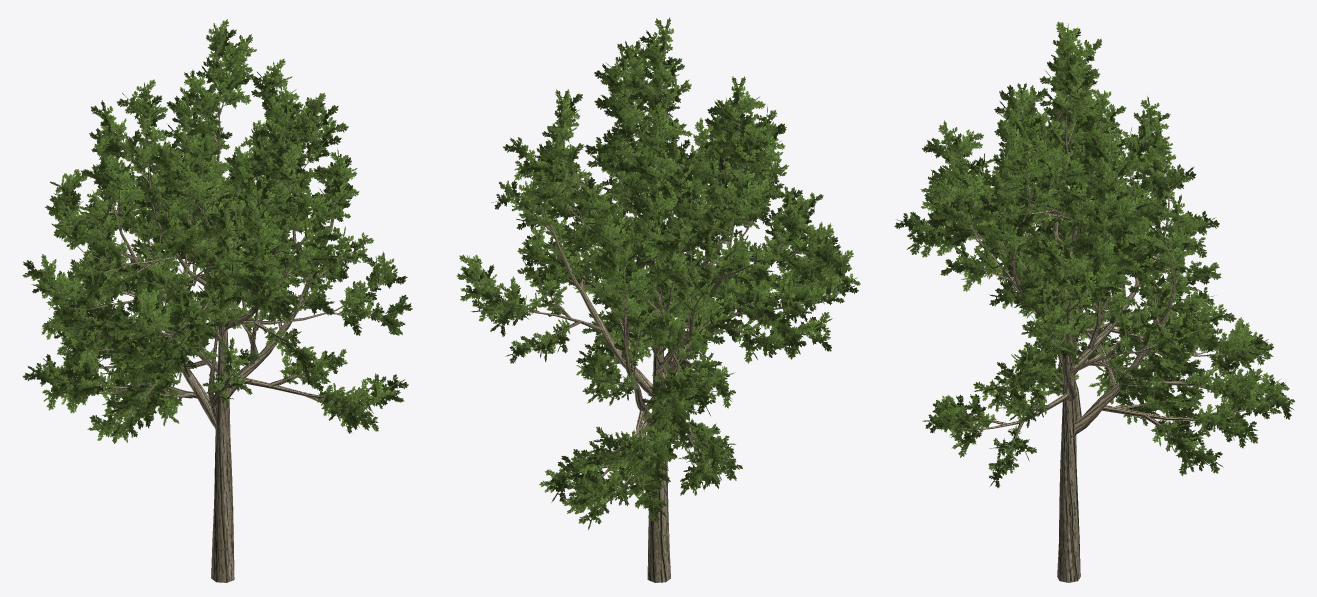
Rendered from oak_medium_01.glb.
3 views of the same model, side by side, from view 1: azimuth 30°, elevation 25°; view 2: azimuth 150°, elevation 25°; view 3: azimuth 270°, elevation 25° (orthographic).
Parts seen in each view (by area): view 1: Tree; view 2: Tree; view 3: Tree.
Part boxes in pixels (left/top/right/bottom): Tree: left=22, top=19, right=412, bottom=582; Tree: left=456, top=17, right=860, bottom=582; Tree: left=894, top=21, right=1294, bottom=582.
Size of the model in its own units: 48.72 by 71.69 by 48.2.
2 materials, 2 textured.
